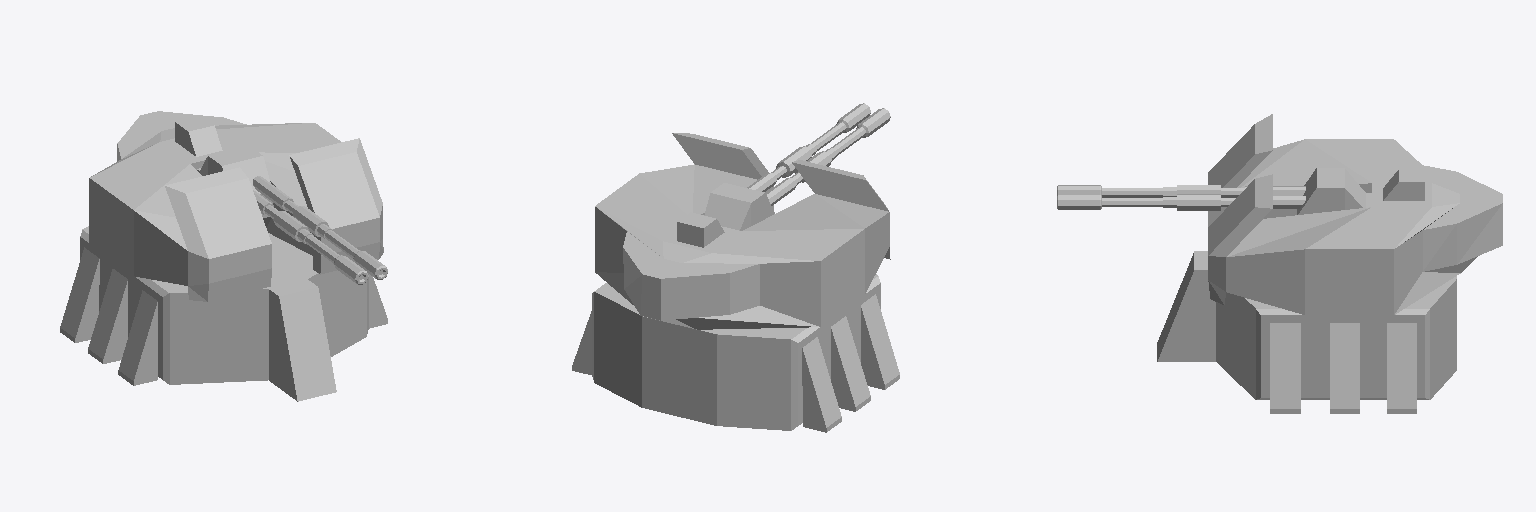
File: Torretas.obj
The picture shows the model from 3 angles: view 1: azimuth 30°, elevation 25°; view 2: azimuth 150°, elevation 25°; view 3: azimuth 270°, elevation 25°; orthographic projection.
Parts seen in each view (by area): view 1: Cabeza, Base; view 2: Cabeza, Base; view 3: Cabeza, Base.
Part boxes in pixels (bbox=[...]): Cabeza: bbox=[89, 111, 387, 301]; Base: bbox=[60, 226, 387, 401]; Cabeza: bbox=[595, 103, 890, 329]; Base: bbox=[572, 274, 899, 432]; Cabeza: bbox=[1057, 114, 1502, 314]; Base: bbox=[1157, 251, 1456, 413].
Bounding box in the file's own units: 3.31 × 2.38 × 5.